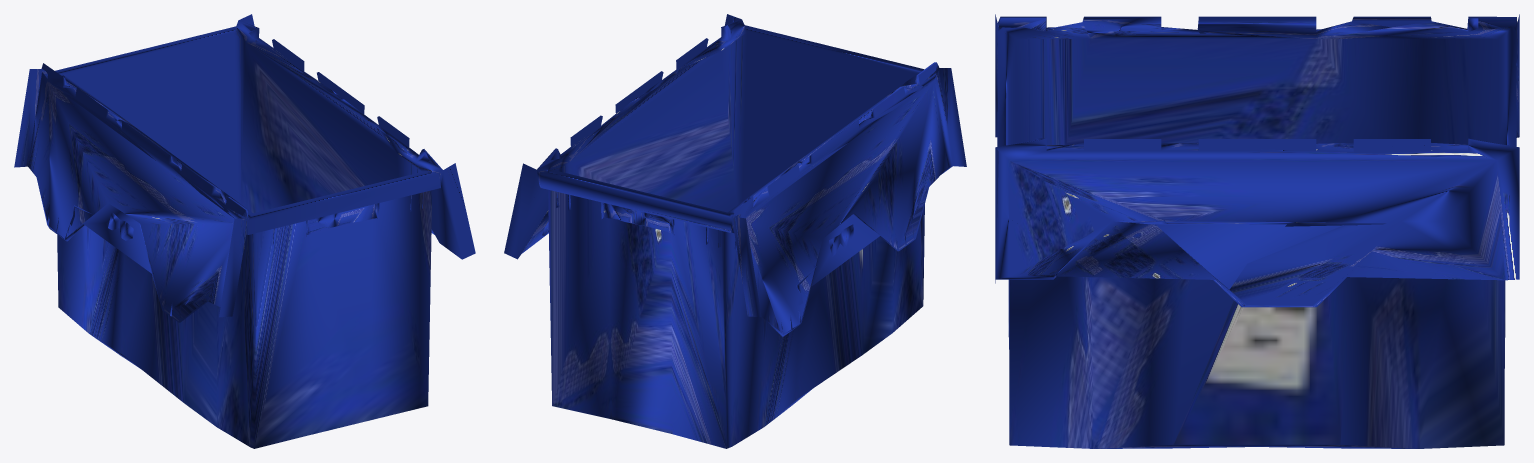
Rendered from trash_can.glb.
3 views of the same model, side by side, from view 1: azimuth 30°, elevation 25°; view 2: azimuth 150°, elevation 25°; view 3: azimuth 270°, elevation 25° (orthographic). The views are drawn at different scales.
Bounding box in the file's own units: 0.4572 × 0.4188 × 0.6314.
Materials: 1 (1 with a texture image).
